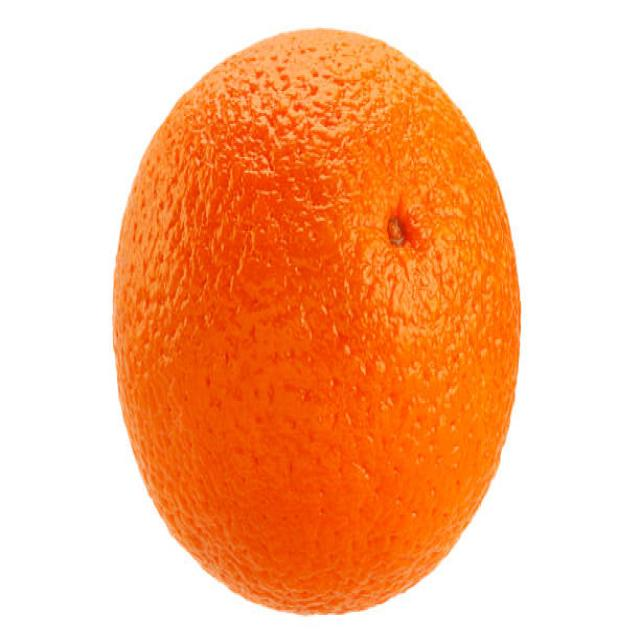Ripe: (108, 22, 526, 614)
